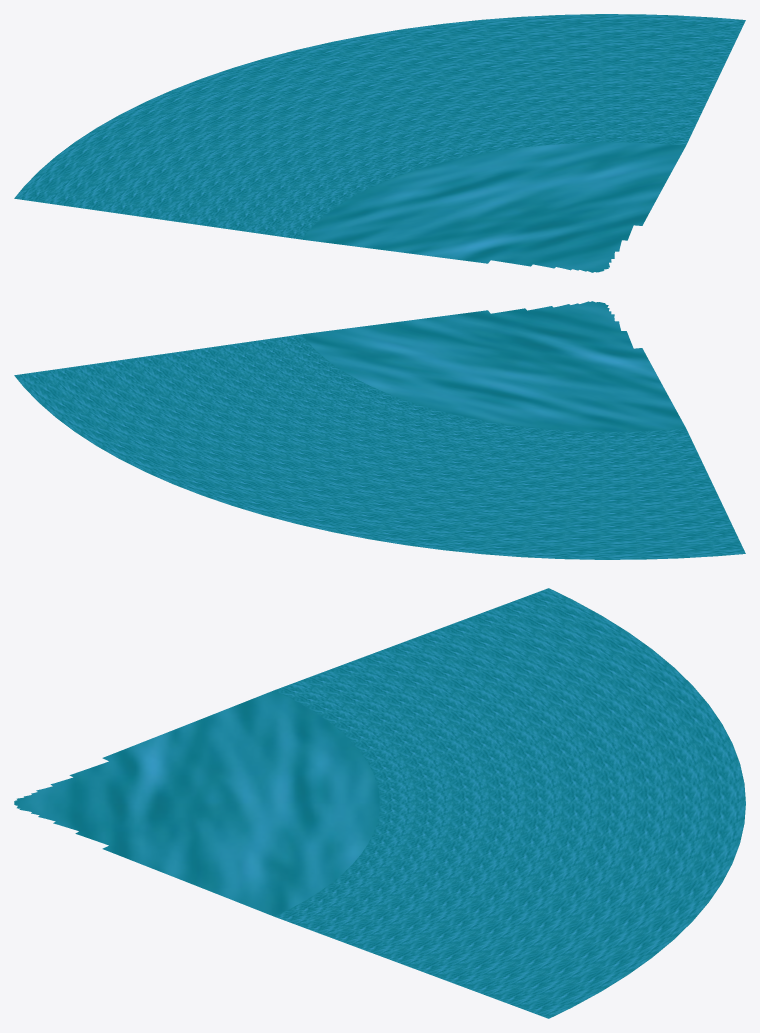
Rendered from SeaPatch34.fbx.
3 views of the same model, one above another, from view 1: azimuth 30°, elevation 25°; view 2: azimuth 150°, elevation 25°; view 3: azimuth 270°, elevation 25° (orthographic). The views are drawn at different scales.
Parts seen in each view (by area): view 1: patchgeometry; view 2: patchgeometry; view 3: patchgeometry.
Boxes of the visible parts, bbox=[...] form: patchgeometry: bbox=[14, 14, 745, 272]; patchgeometry: bbox=[14, 301, 745, 559]; patchgeometry: bbox=[14, 588, 745, 1018].
Size of what is drawn, in the model's own units: 376319 by 0.044 by 270187.
1 material, 1 textured.
